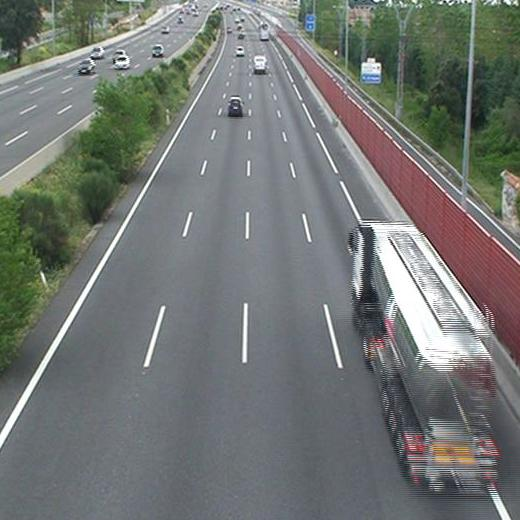bus: (258, 23, 268, 41)
car: (228, 96, 242, 118), (236, 45, 245, 56)
tank-truck: (352, 224, 498, 494)
van: (253, 55, 266, 72)
